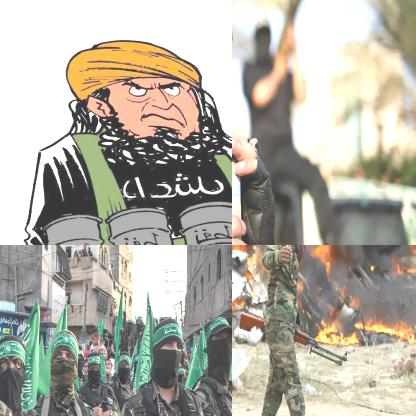rifle: (238, 308, 349, 369)
